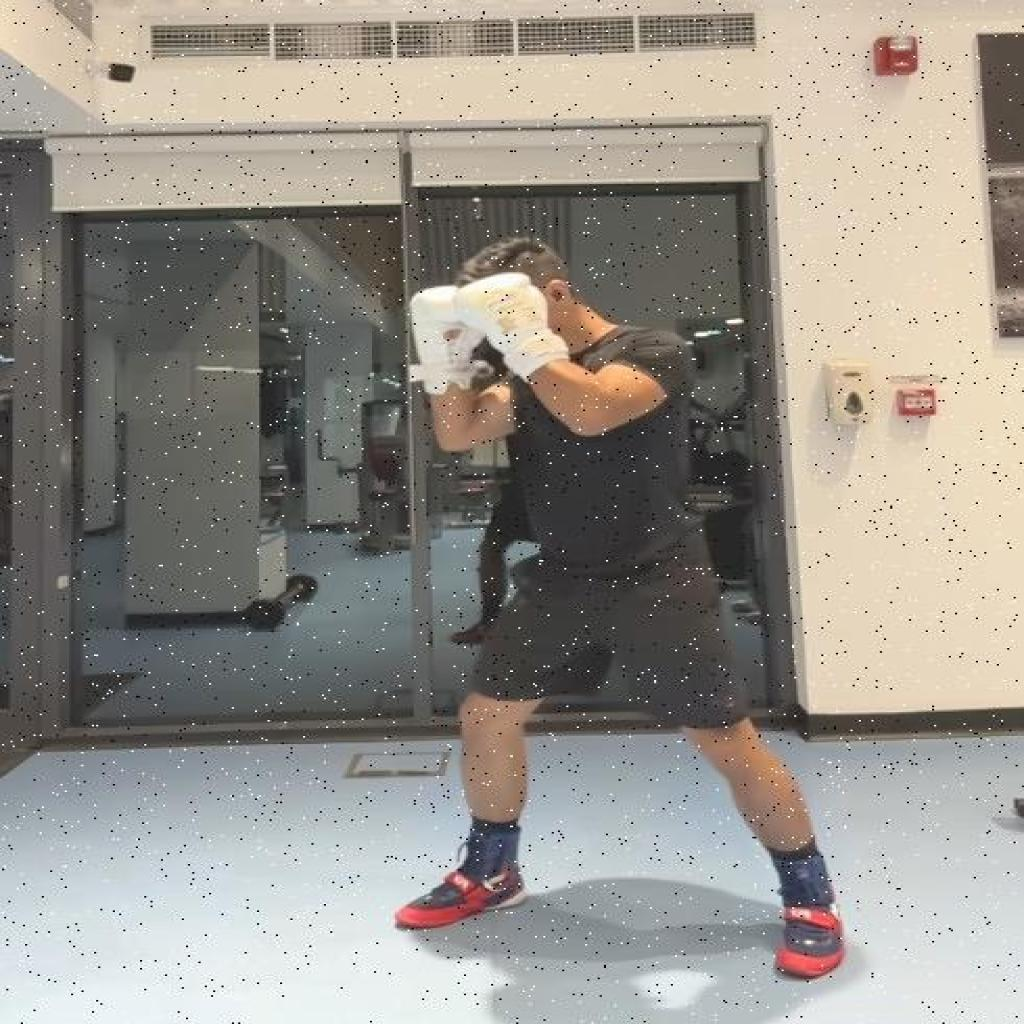no punch: (380, 227, 853, 986)
